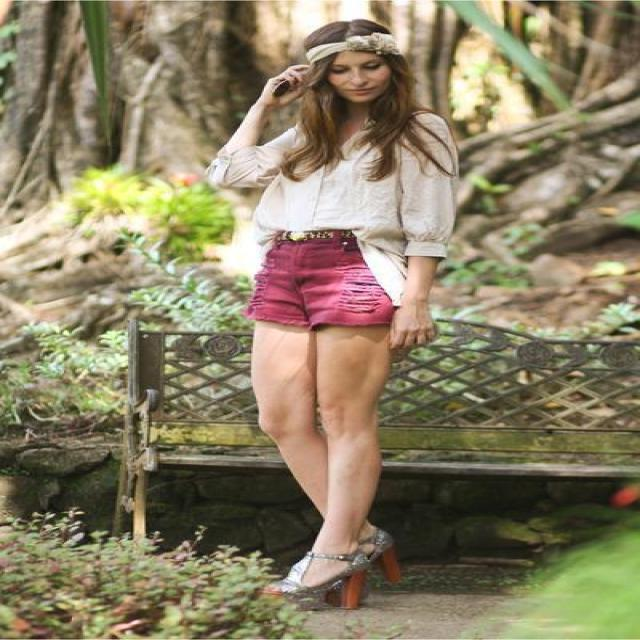shirt: (205, 113, 478, 304)
shoe: (269, 539, 411, 591)
shorts: (250, 228, 398, 340)
